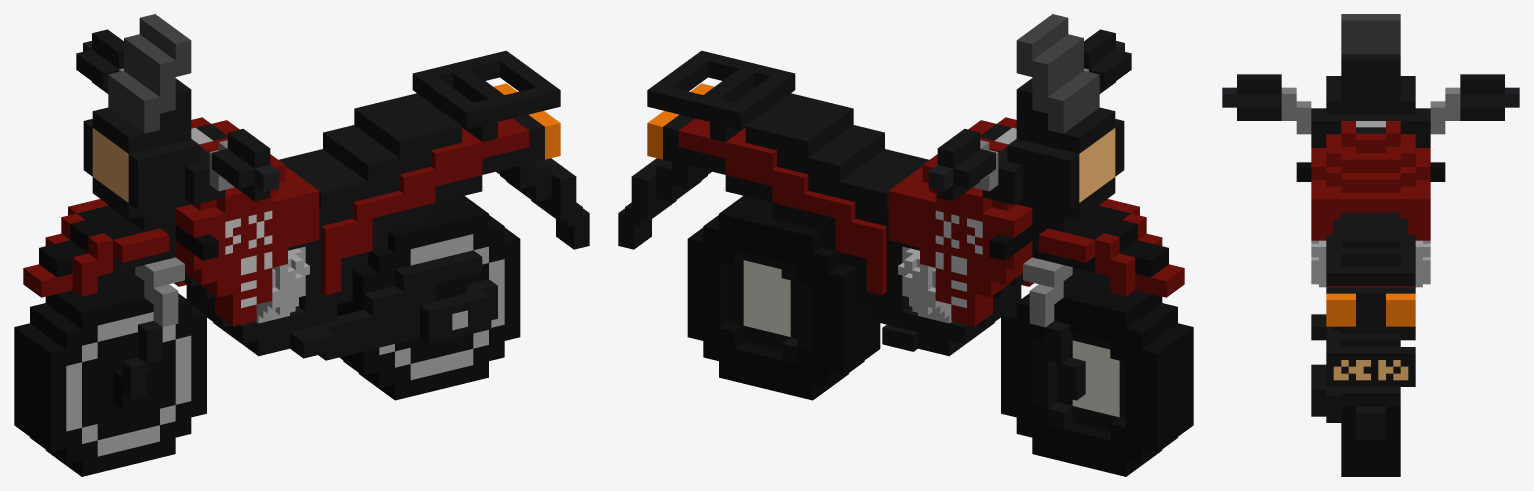
File: redmotorbike-len2.glb
3 views of the same model, side by side, from view 1: azimuth 30°, elevation 25°; view 2: azimuth 150°, elevation 25°; view 3: azimuth 270°, elevation 25° (orthographic). The views are drawn at different scales.
Parts seen in each view (by area): view 1: _0; view 2: _0; view 3: _0.
Part boxes in pixels (x1=…): _0: x1=14, y1=14, x2=589, y2=476; _0: x1=618, y1=14, x2=1193, y2=476; _0: x1=1222, y1=14, x2=1519, y2=476.
Size of the model in its own units: 0.105 by 0.075 by 0.06.
